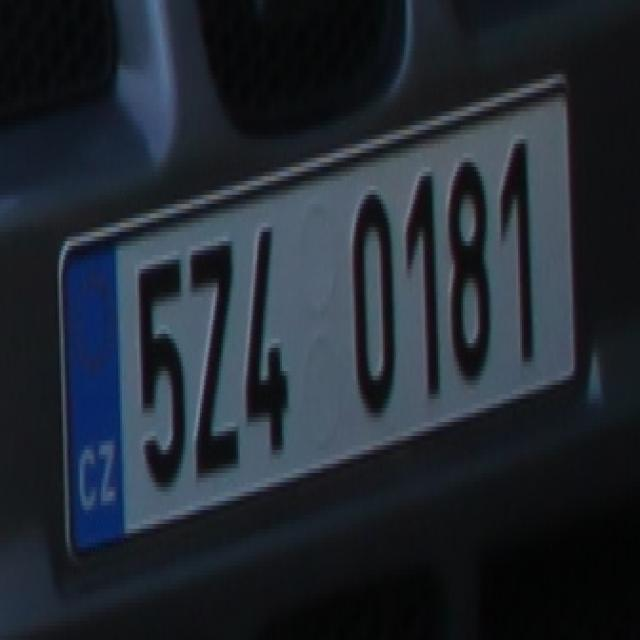0: (347, 181, 396, 427)
1: (497, 121, 539, 371), (400, 162, 440, 418)
4: (240, 213, 297, 473)
5: (130, 246, 187, 492)
8: (444, 139, 491, 380)
Z: (185, 232, 238, 482)
